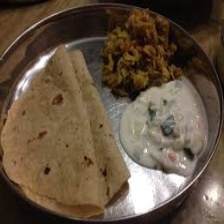sabzi: (101, 6, 179, 100)
